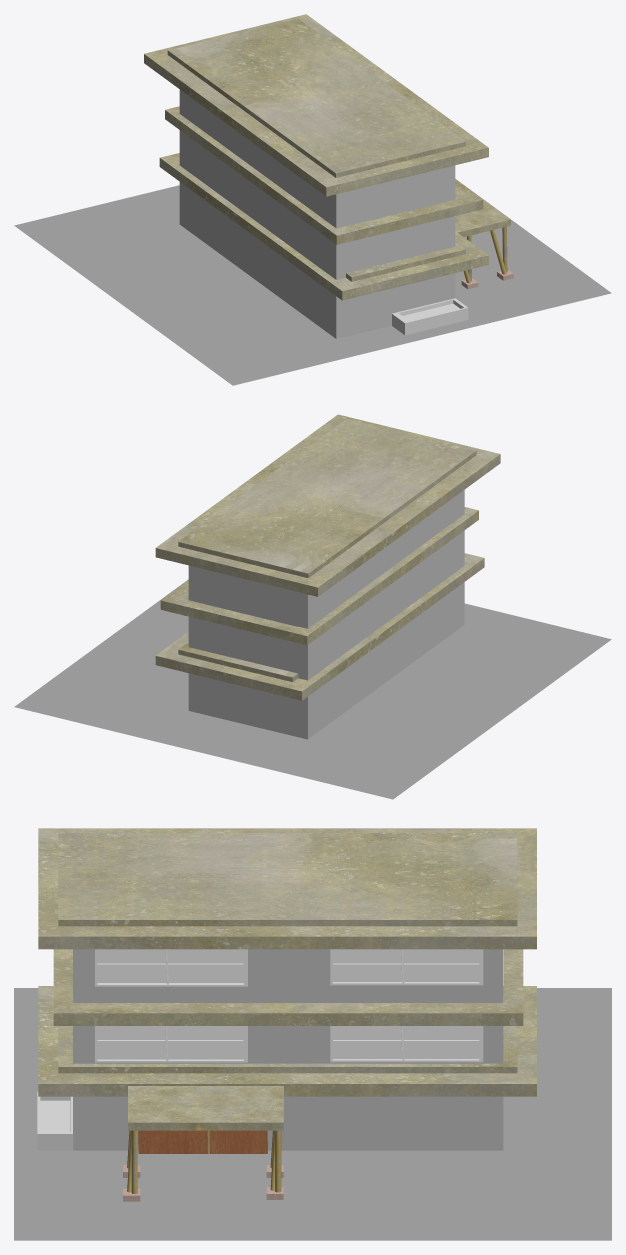
The model's file is buildingone_.fbx.
The picture shows the model from 3 angles, top to bottom: view 1: azimuth 30°, elevation 25°; view 2: azimuth 150°, elevation 25°; view 3: azimuth 270°, elevation 25°; orthographic projection. The views are drawn at different scales.
Parts seen in each view (by area): view 1: zground, base, pCube11, pCube29, pCube26, pCube36, accesories1, pCube30; view 2: zground, base, pCube11, pCube29, pCube26, pCube36; view 3: zground, pCube11, pCube29, base, pCube26, pCube36, pCube30, window7, window5, window8, window6, pCube37 (+1 smaller).
Part boxes in pixels (box(x1,y1,x2,y2)): zground: box(14, 179, 611, 385); base: box(179, 89, 455, 338); pCube11: box(144, 18, 472, 196); pCube29: box(160, 14, 488, 192); pCube26: box(159, 153, 488, 300); pCube36: box(165, 106, 483, 244); accesories1: box(392, 298, 468, 335); pCube30: box(455, 180, 510, 236); zground: box(14, 579, 611, 799); base: box(188, 490, 464, 739); pCube11: box(171, 418, 500, 596); pCube29: box(155, 414, 484, 589); pCube26: box(155, 553, 484, 700); pCube36: box(160, 507, 478, 645); zground: box(14, 988, 611, 1240); pCube11: box(38, 828, 536, 925); pCube29: box(38, 839, 536, 949); base: box(73, 949, 503, 1150); pCube26: box(38, 986, 536, 1096); pCube36: box(53, 949, 523, 1025); pCube30: box(128, 1086, 283, 1130); window7: box(330, 1026, 483, 1062); window5: box(95, 949, 247, 986); window8: box(95, 1026, 247, 1062); window6: box(330, 949, 483, 985); pCube37: box(140, 1130, 265, 1153).
Bounding box in the file's own units: 16.63 × 7.37 × 16.63.
